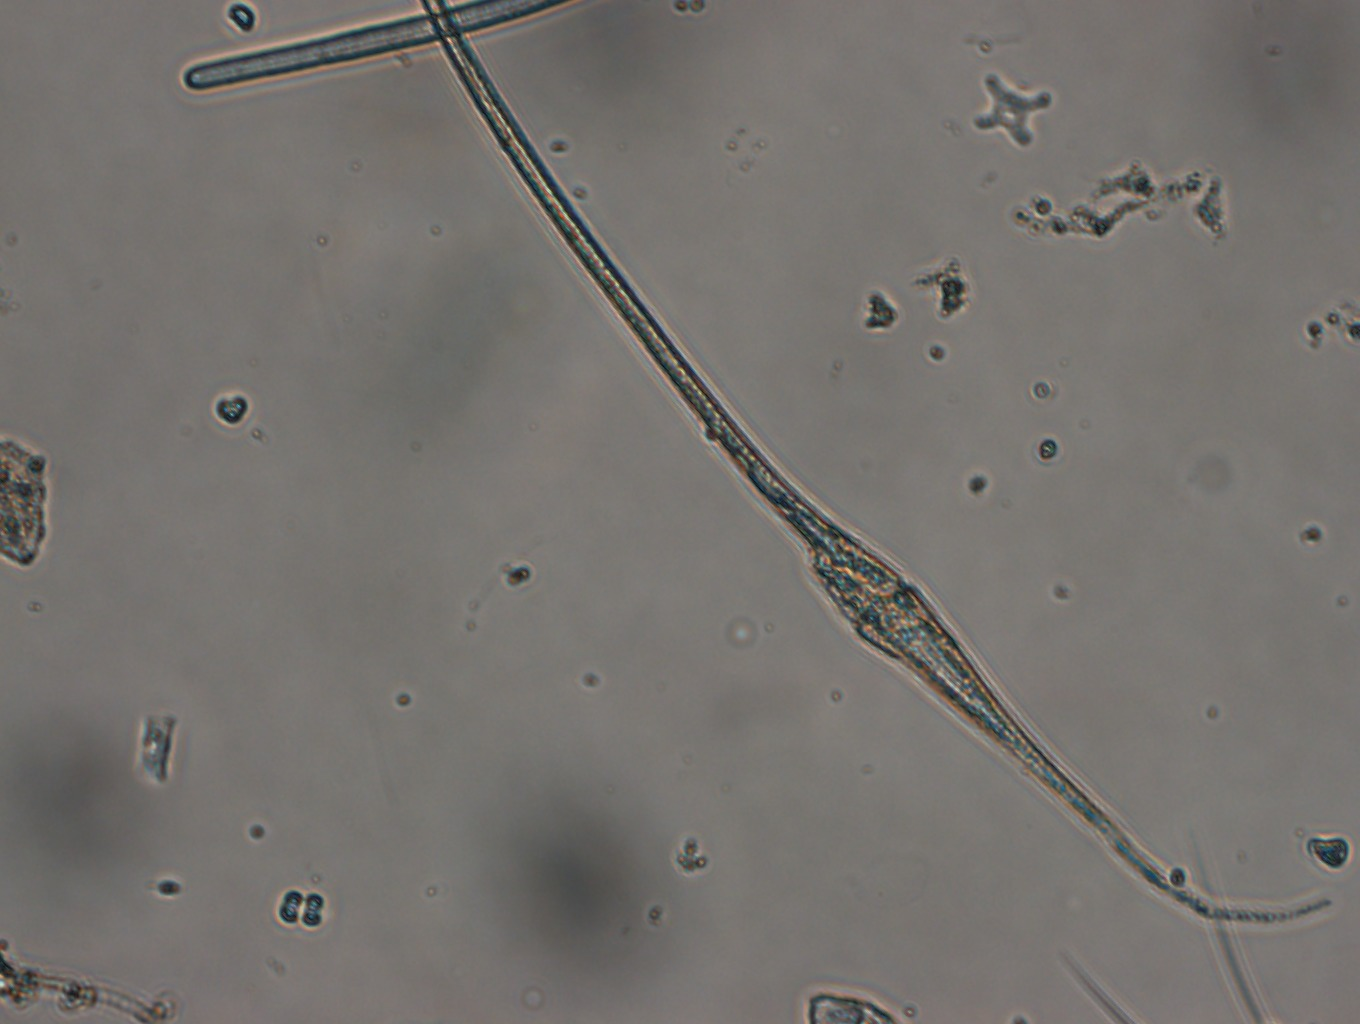ceratium fusus: (419, 1, 1349, 927)
